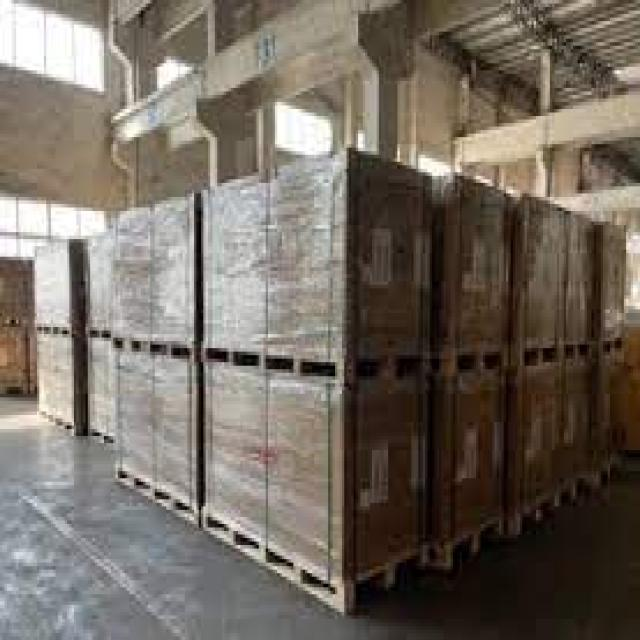Wooden-Pallets: (264, 528, 425, 618), (262, 340, 341, 397), (198, 503, 261, 563), (148, 478, 195, 522)
